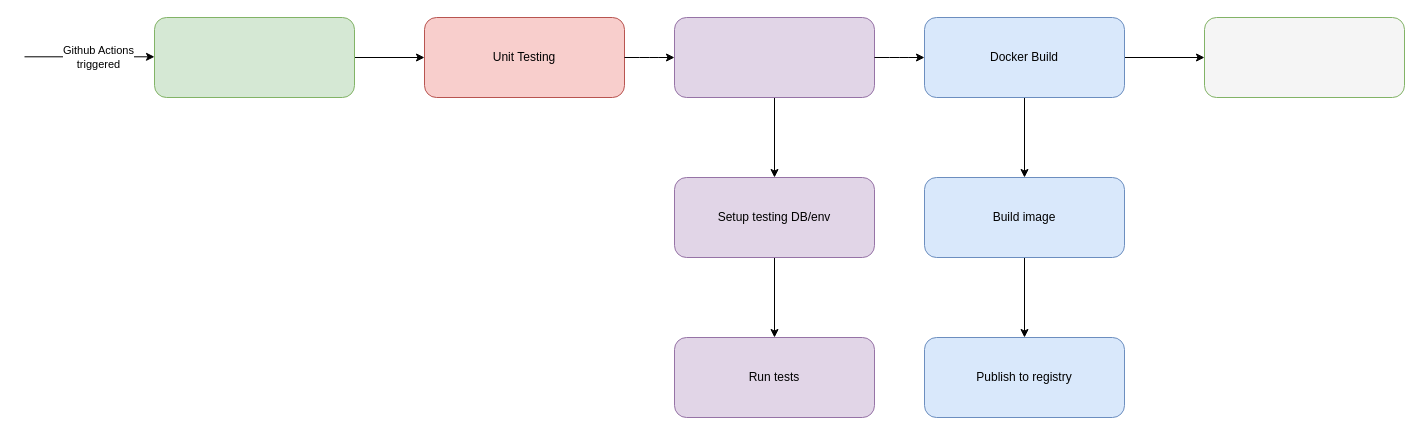
This 1422x435 diagram has some shape labels left out. The shapes that lost their labels are listed below. From the top down, each one's centre as x and y in pixels, then its label:
(254,57): Source Code (GitHub)
(774,57): Integration Testing
(1304,57): Kubernetes Deployment
